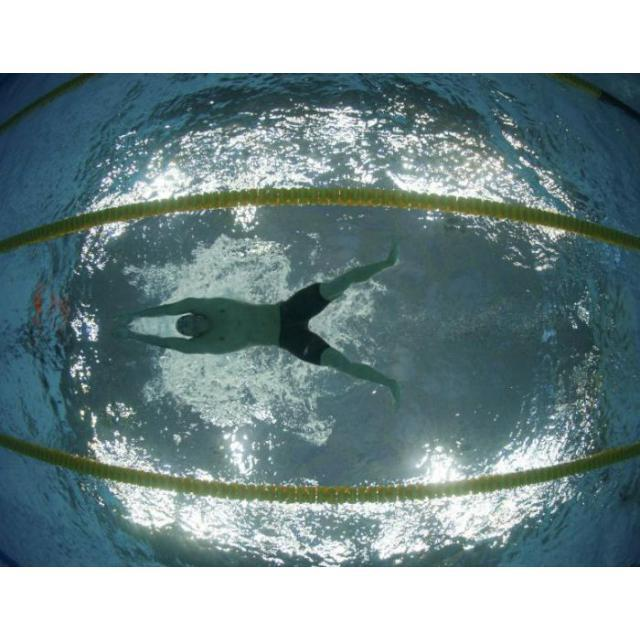human: (117, 235, 402, 410)
